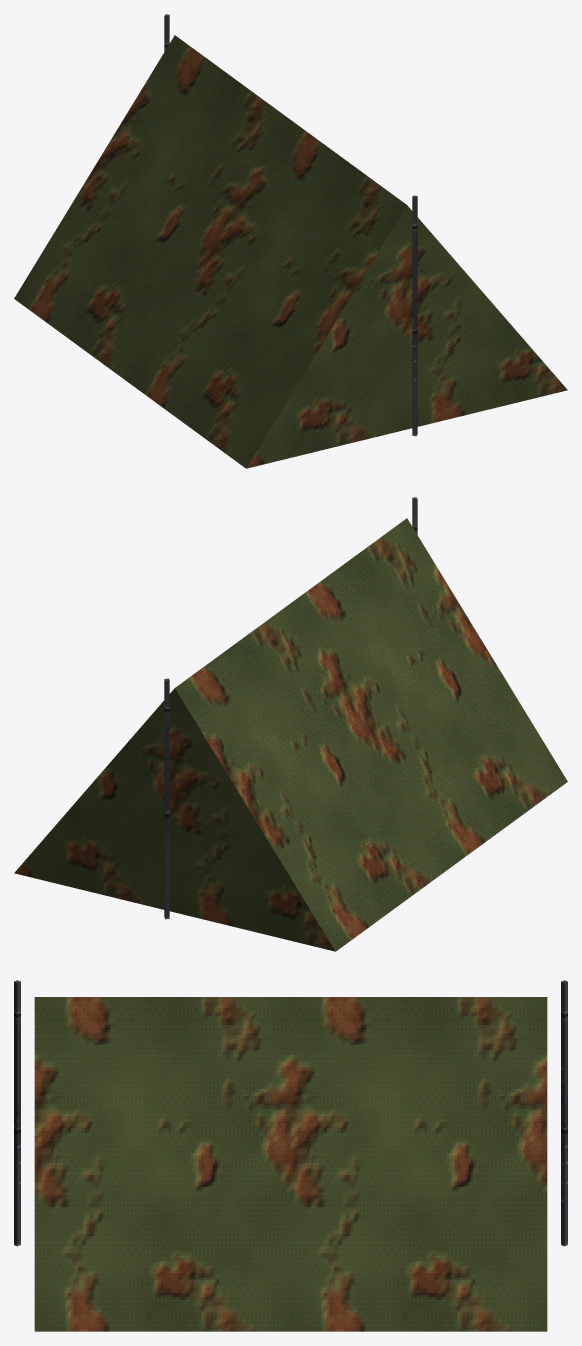
The model's file is ext_tent.glb.
3 renders of one model, top to bottom at view 1: azimuth 30°, elevation 25°; view 2: azimuth 150°, elevation 25°; view 3: azimuth 270°, elevation 25°, orthographic. The views are drawn at different scales.
Visible parts, largest first — view 1: ext_tent_mesh; view 2: ext_tent_mesh; view 3: ext_tent_mesh.
Boxes of the visible parts, left/top/right/bottom form: ext_tent_mesh: left=14, top=14, right=567, bottom=468; ext_tent_mesh: left=14, top=497, right=567, bottom=951; ext_tent_mesh: left=14, top=980, right=567, bottom=1331.
Size of what is drawn, in the model's own units: 2.4 by 1.7 by 3.24.
2 materials, 2 textured.
